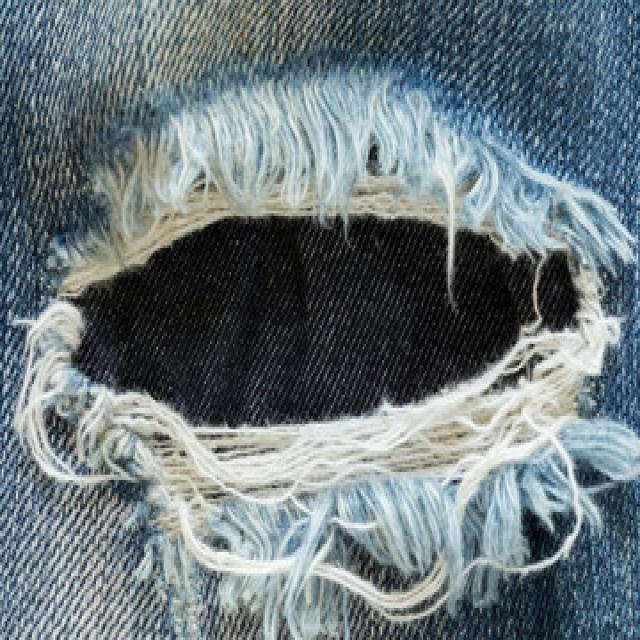Hole: (14, 70, 640, 640)
